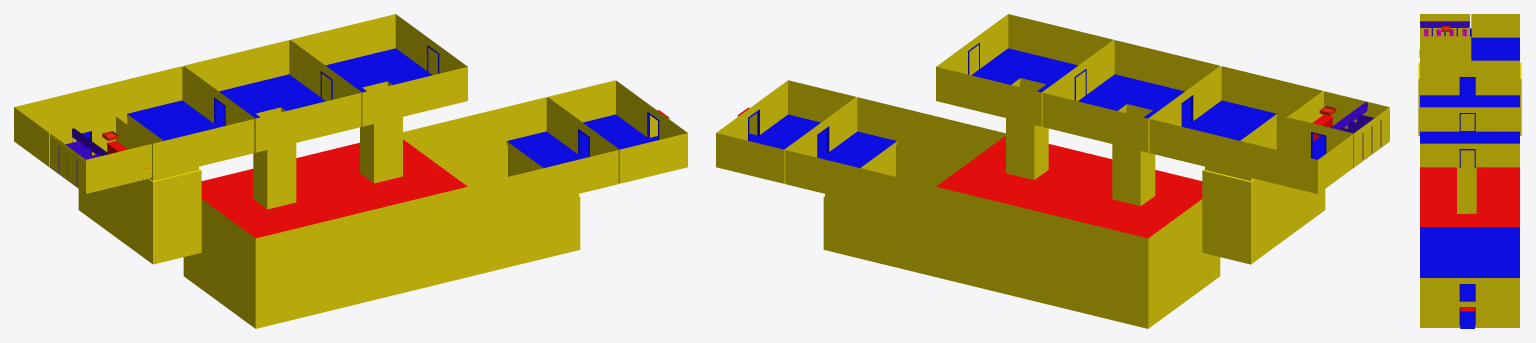
File: stage_01_03_texture.FBX
The picture shows the model from 3 angles, left to right: view 1: azimuth 30°, elevation 25°; view 2: azimuth 150°, elevation 25°; view 3: azimuth 270°, elevation 25°; orthographic projection. The views are drawn at different scales.
Parts seen in each view (by area): view 1: Object008, Object002, Object006, Object011, Object001, Object010, Object009, Object014, Object015, Object013, Object022, Object017 (+1 smaller); view 2: Object008, Object006, Object002, Object011, Object001, Object010, Object009, Object014, Object015, Object013, Object022, Object017 (+1 smaller); view 3: Object006, Object016, Object010, Object011, Object001, Object002, Object014, Object015, Object012, Box044, Object009, Object022 (+4 smaller).
Boxes of the visible parts, x1,y1,x2,y2 form: Object008: [183, 107, 578, 328]; Object002: [78, 66, 254, 264]; Object006: [290, 14, 467, 212]; Object011: [183, 40, 361, 238]; Object001: [14, 91, 152, 193]; Object010: [547, 80, 687, 183]; Object009: [506, 97, 618, 249]; Object014: [216, 74, 325, 126]; Object015: [325, 48, 432, 92]; Object013: [127, 100, 218, 140]; Object022: [579, 114, 657, 158]; Object017: [507, 131, 582, 167]; Object008: [825, 107, 1220, 328]; Object006: [936, 14, 1113, 212]; Object002: [1149, 66, 1325, 264]; Object011: [1042, 40, 1220, 238]; Object001: [1251, 91, 1389, 193]; Object010: [716, 80, 856, 183]; Object009: [785, 97, 897, 249]; Object014: [1078, 74, 1190, 126]; Object015: [971, 48, 1078, 92]; Object013: [1185, 100, 1276, 140]; Object022: [749, 114, 827, 158]; Object017: [821, 131, 896, 167]; Object006: [1420, 107, 1519, 226]; Object016: [1420, 227, 1519, 288]; Object010: [1420, 278, 1519, 325]; Object011: [1420, 71, 1519, 190]; Object001: [1419, 14, 1519, 60]; Object002: [1418, 60, 1521, 135]; Object014: [1420, 95, 1519, 107]; Object015: [1420, 131, 1519, 143]; Object012: [1471, 37, 1519, 60]; Box044: [1459, 28, 1475, 325]; Object009: [1420, 278, 1519, 327]; Object022: [1460, 311, 1474, 328].
Bounding box in the file's own units: 74.87 × 24.71 × 15.74.
